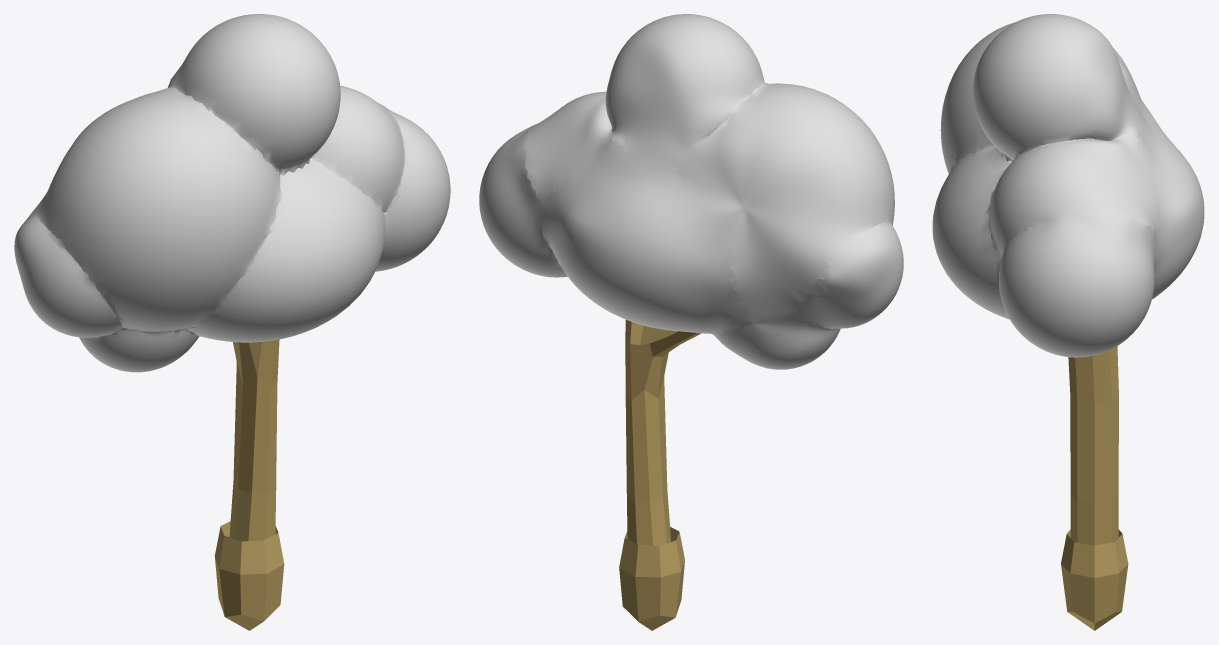
Rendered from Tree.fbx.
3 renders of one model, left to right at view 1: azimuth 30°, elevation 25°; view 2: azimuth 150°, elevation 25°; view 3: azimuth 270°, elevation 25°, orthographic. The views are drawn at different scales.
Visible parts, largest first — view 1: Cube.030; view 2: Cube.030; view 3: Cube.030.
Part boxes in pixels (<box>): Cube.030: <box>14,14,450,630</box>; Cube.030: <box>479,14,903,630</box>; Cube.030: <box>932,14,1204,630</box>.
Size of the model in its own units: 4.08 by 2.39 by 5.85.
